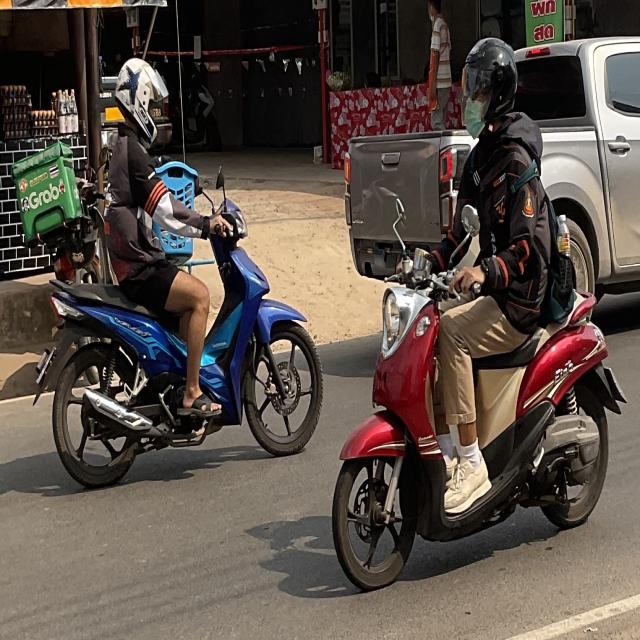helmet: (459, 33, 520, 146), (113, 53, 170, 154)
